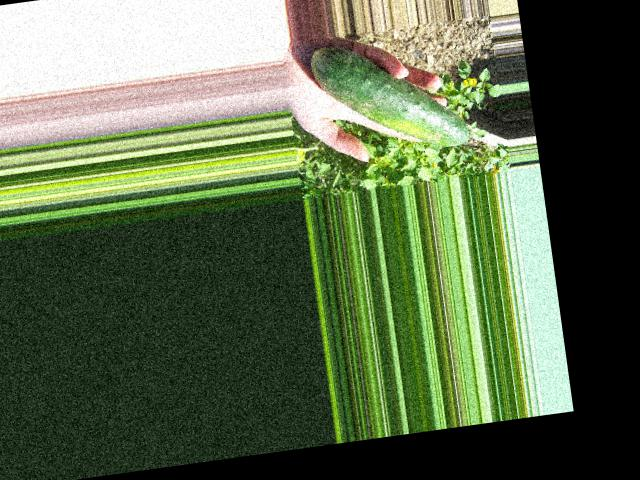cucumber: (310, 29, 472, 163)
